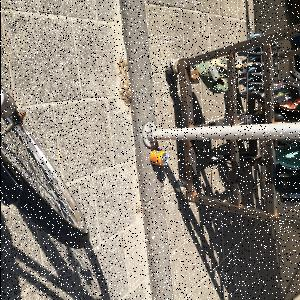Can: (149, 151, 169, 168)
